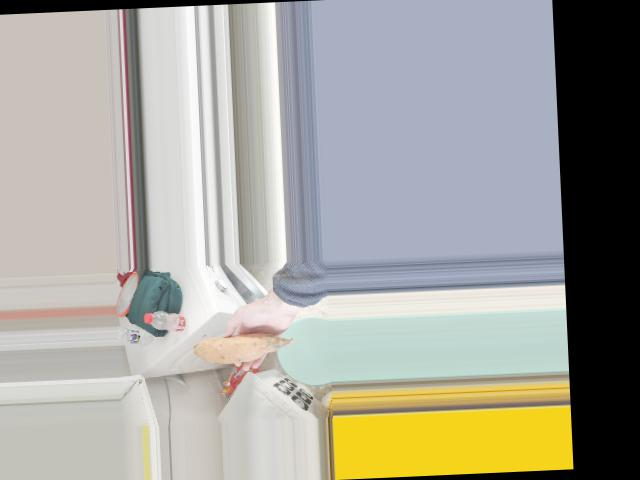sweet_potato: (184, 327, 273, 364)
